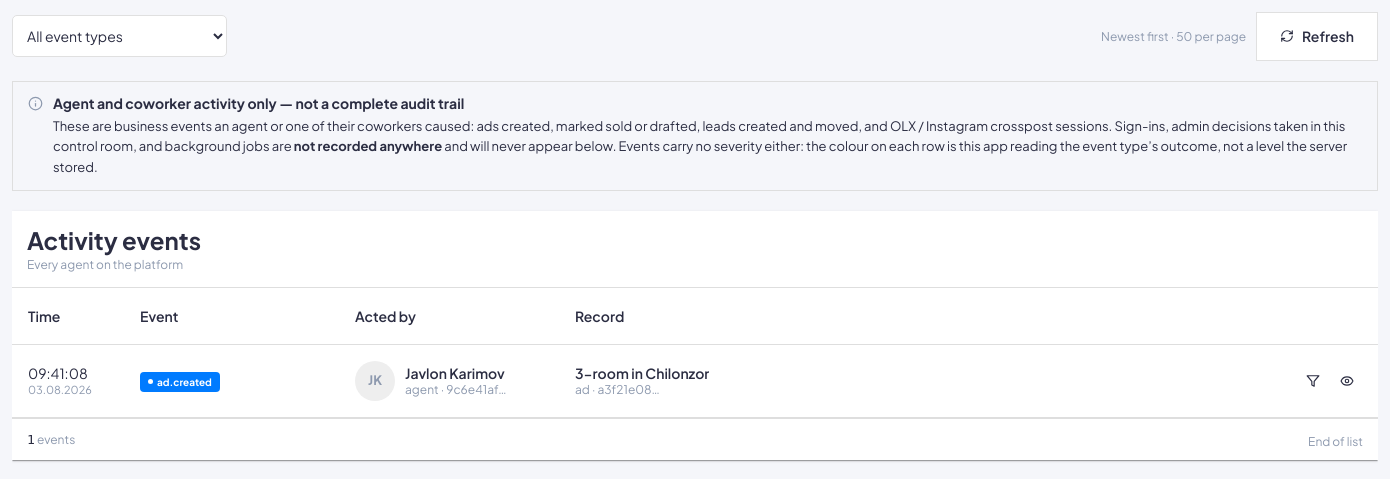
Test: AuditScreen › narrows the log to a row's agent, then clears it again from the chip
Click the button named "Filter the log to Javlon Karimov". click: coordinates (1313, 381)
box: left=1298, top=370, right=1328, bottom=392
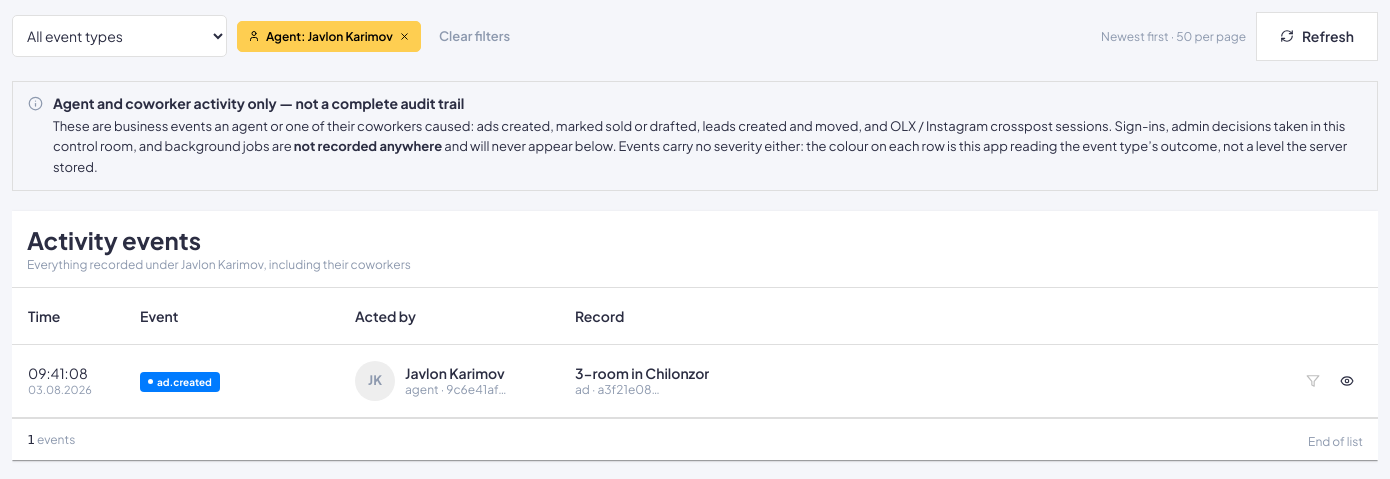
Expected: the button "Agent: Javlon Karimov" is shown
Expected: the button named "Filter the log to Javlon Karimov" is disabled, left=1298, top=370, right=1328, bottom=392
Expected: the text "including their coworkers" is shown, left=27, top=257, right=411, bottom=272
Click the button "Agent: Javlon Karimov". click: coordinates (329, 36)
box: left=237, top=21, right=421, bottom=52
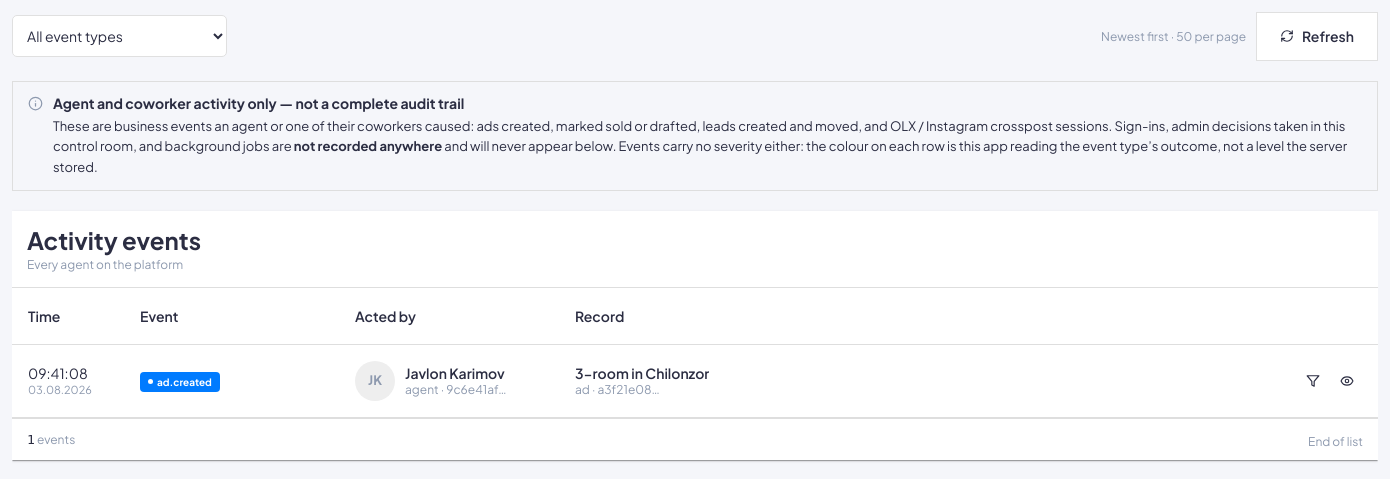
Expected: the button "Agent: Javlon Karimov" is gone
